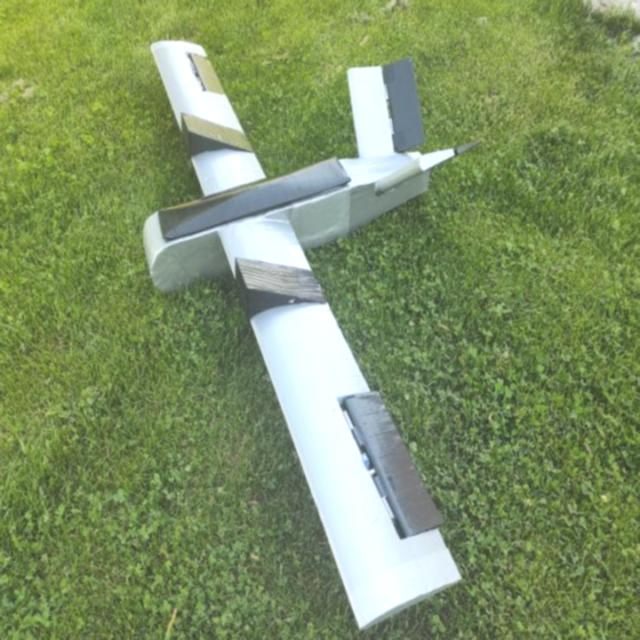plane: (142, 38, 484, 631)
